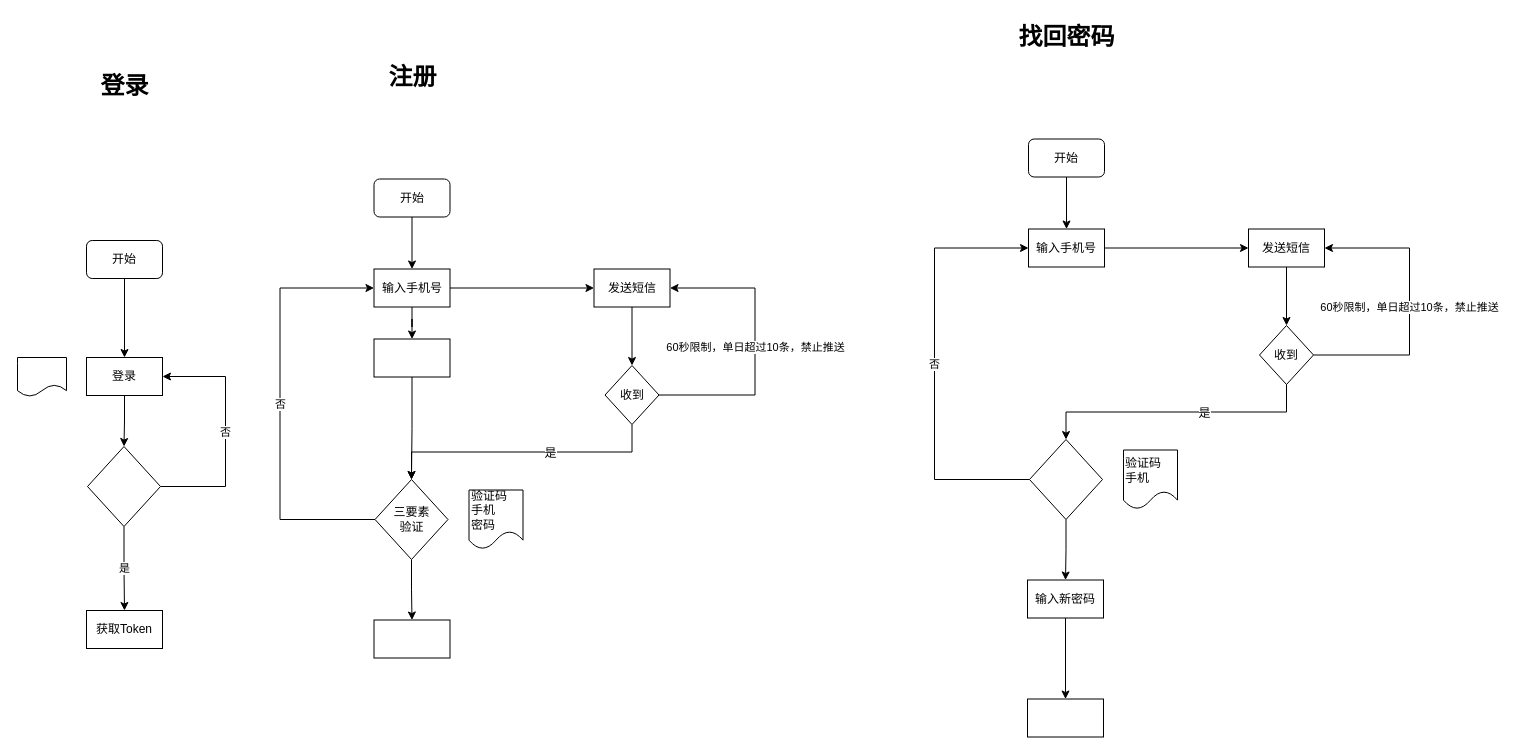
Image size: 1516x755. Some labels were removed from this diagram. The centre of each missing label's shape, as x and y in pixels:
二要素 验证: (1065,479)
成功: (1065,717)
手机 密码: (41,376)
注册成功: (411,638)
输入密码: (411,357)
验证: (123,486)
